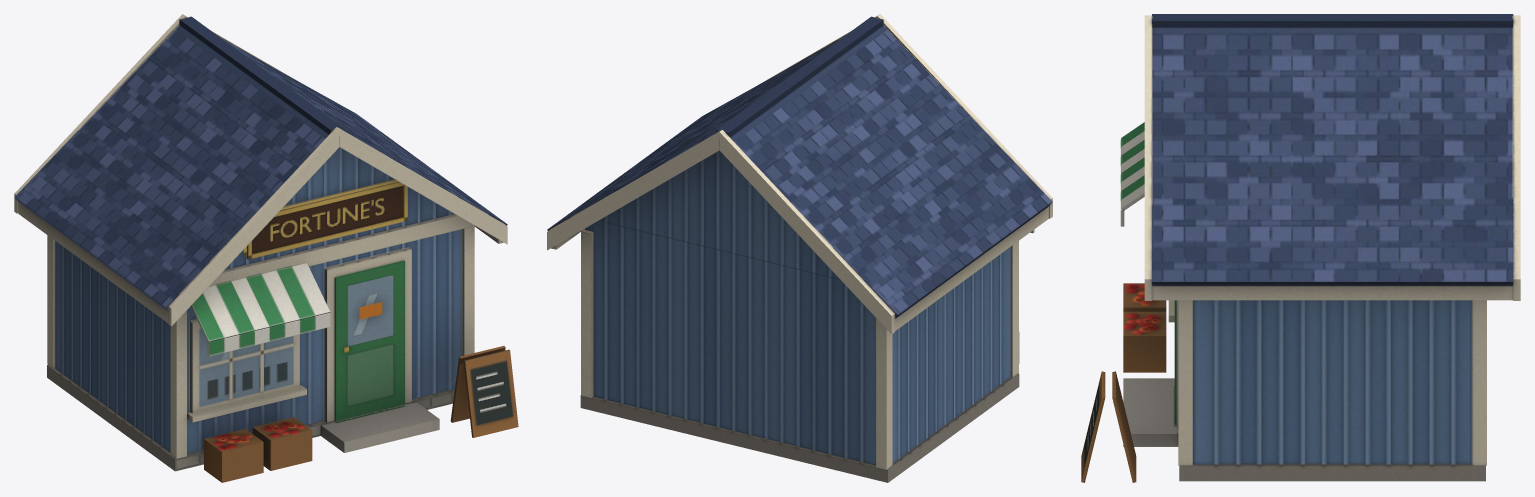
Rendered from shop.glb.
3 renders of one model, left to right at view 1: azimuth 30°, elevation 25°; view 2: azimuth 150°, elevation 25°; view 3: azimuth 270°, elevation 25°, orthographic. The views are drawn at different scales.
Visible parts, largest first — view 1: shop; view 2: shop; view 3: shop.
Part boxes in pixels (x1,y1,x2,y2): shop: (14, 14, 518, 482); shop: (547, 14, 1052, 482); shop: (1081, 14, 1520, 482).
Size of the model in its own units: 3.95 by 3.49 by 3.67.
1 material, 1 textured.
